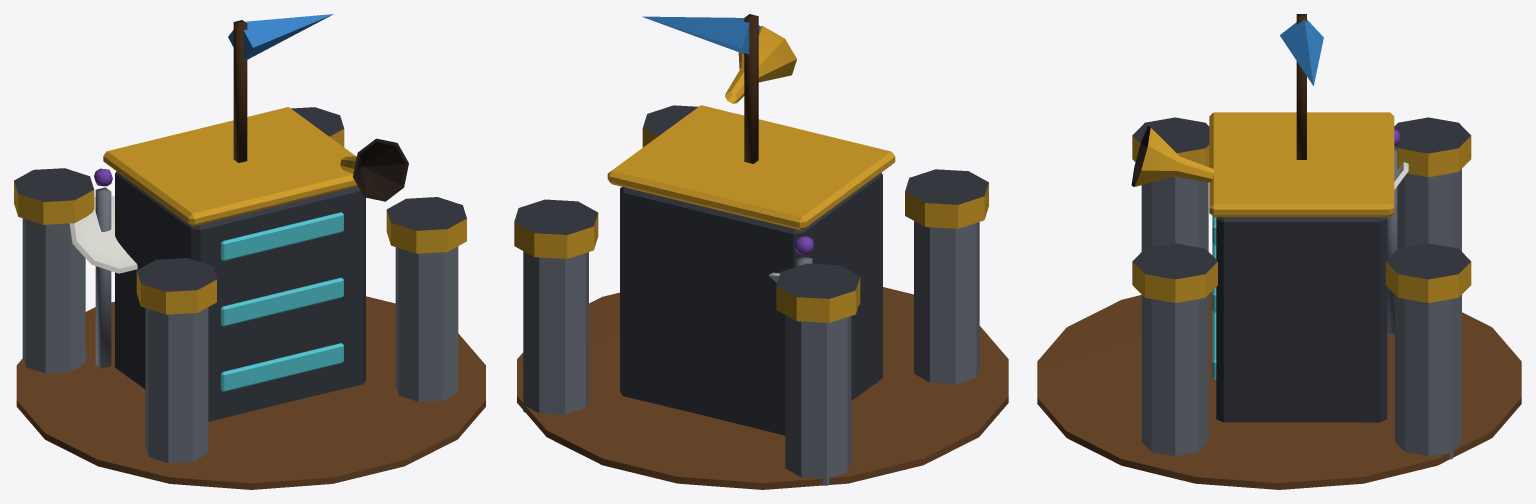
3 renders of one model, left to right at view 1: azimuth 30°, elevation 25°; view 2: azimuth 150°, elevation 25°; view 3: azimuth 270°, elevation 25°, orthographic. The views are drawn at different scales.
Visible parts, largest first — view 1: vila_0_base; view 2: vila_0_base; view 3: vila_0_base.
Part boxes in pixels (box(x1,y1,x2,y2)): vila_0_base: box(14, 14, 485, 489); vila_0_base: box(514, 14, 1008, 489); vila_0_base: box(1037, 14, 1521, 489).
Bounding box in the file's own units: 1.32 × 1.1 × 1.3.
